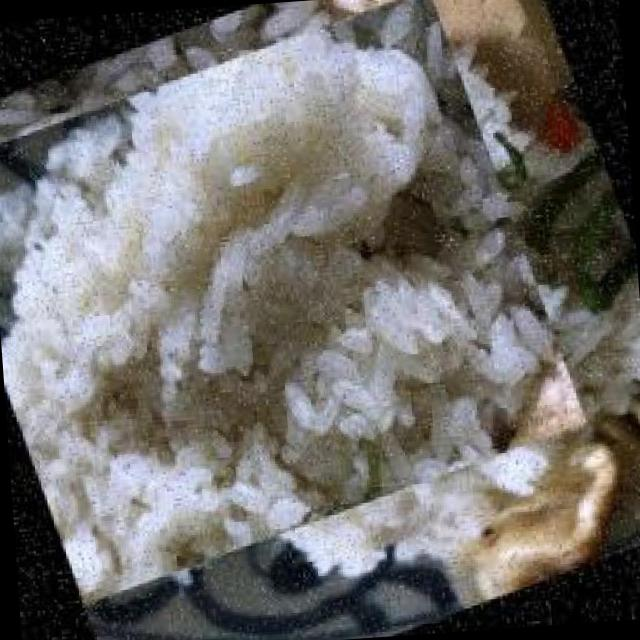rice: (0, 0, 584, 623)
